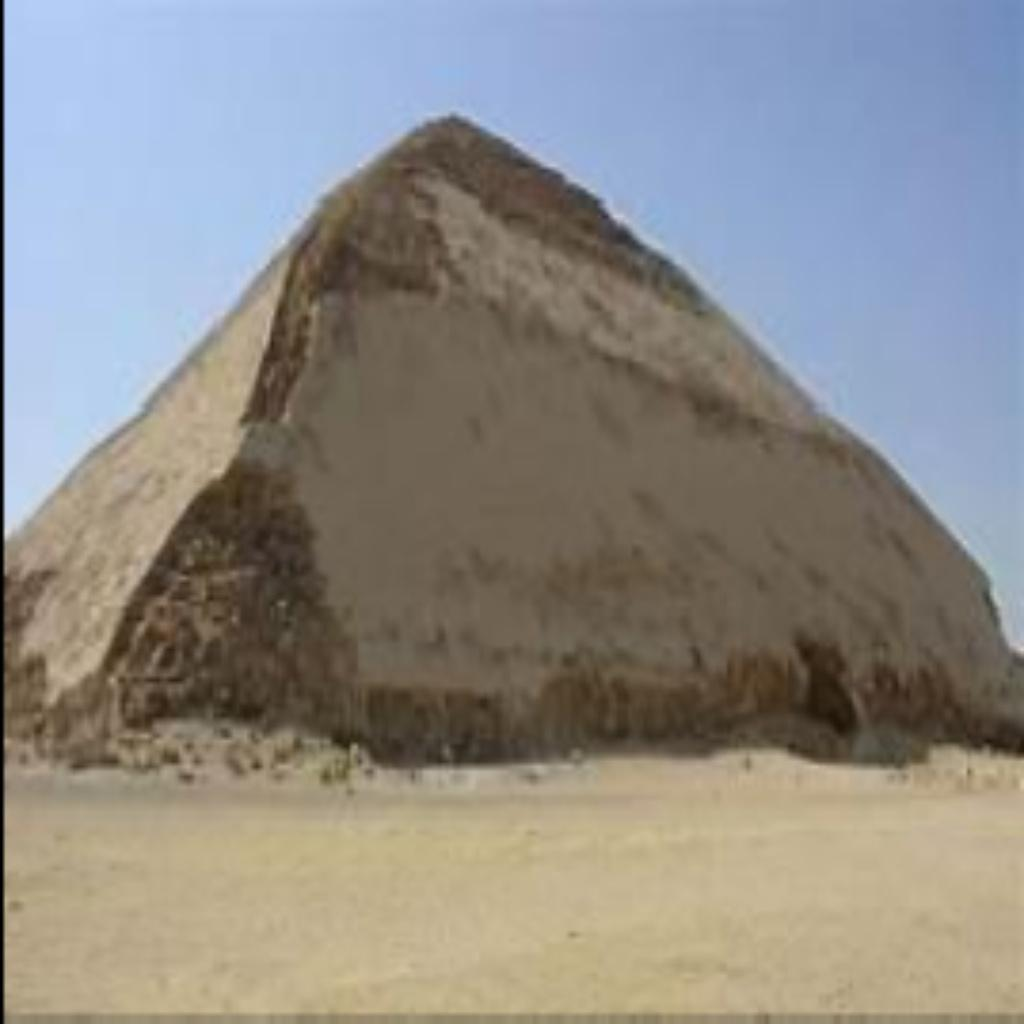Bent Pyramid of King Sneferu: (8, 107, 1024, 764)
